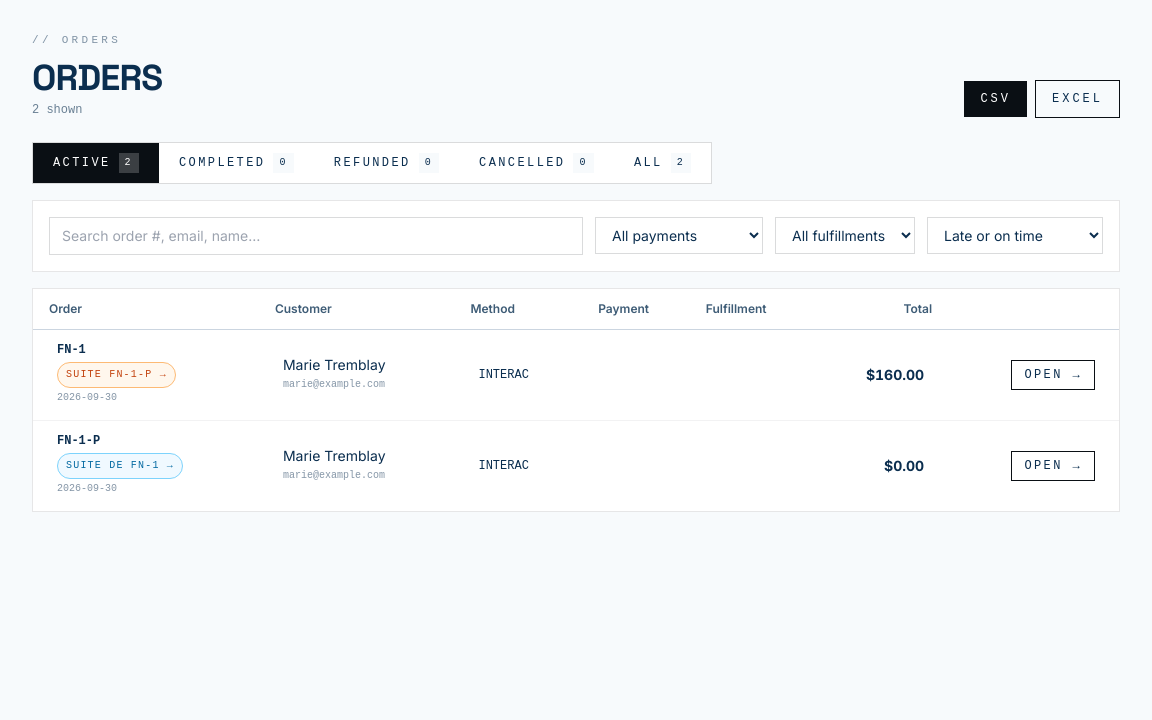
it: la liste › la pastille MENE a la commande soeur
Click the button with test id "suite-badge-FN-1".
click(116, 375)  # box [57,362,176,388]
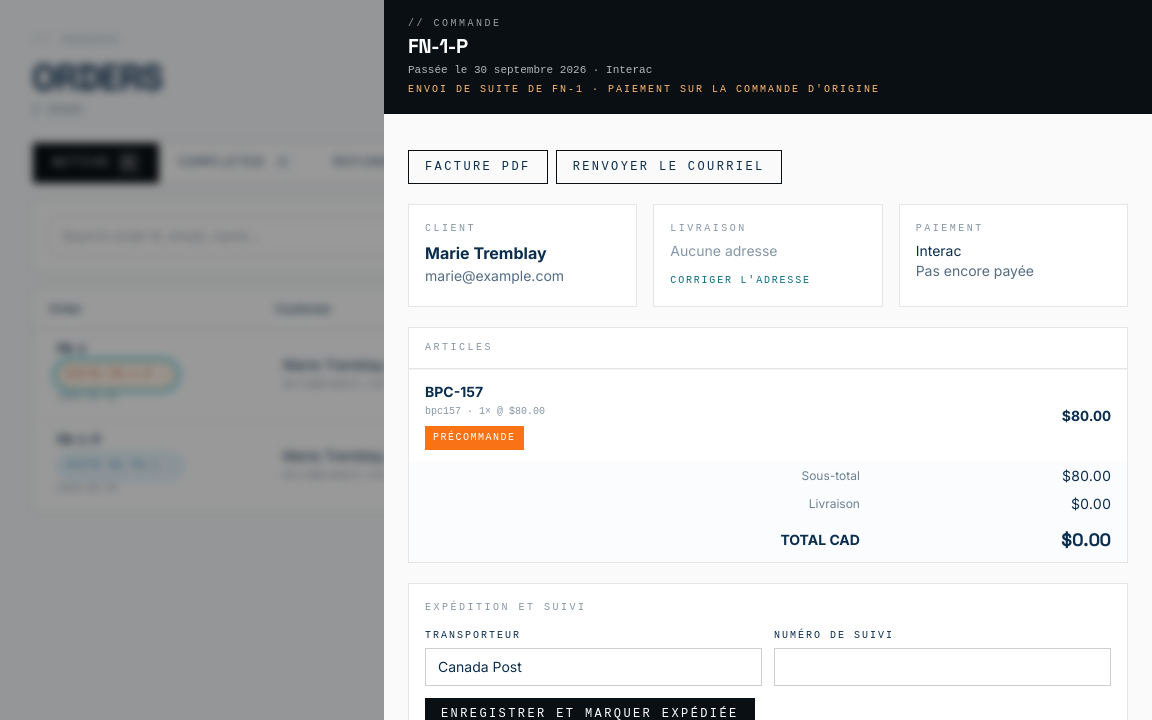
Result: the element with test id "order-detail-drawer" is shown
Result: the text with test id "order-detail-number" reads "FN-1-P" at [408,33,468,59]
